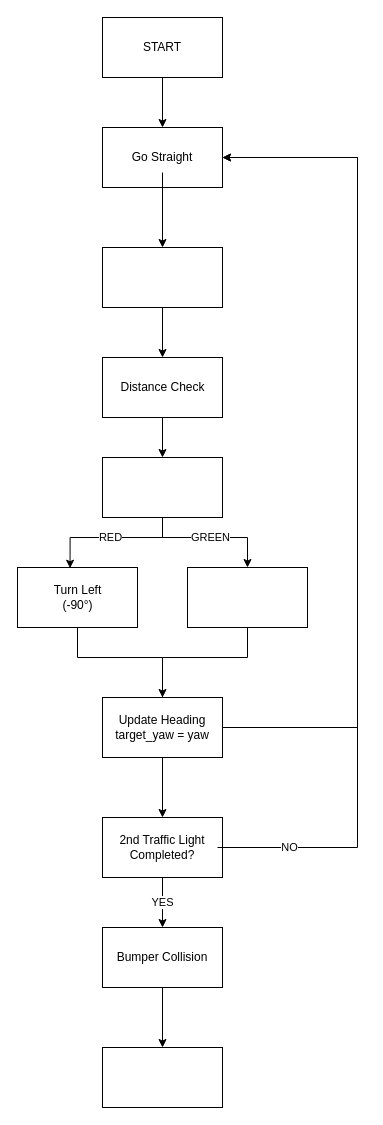
Image size: 383x1125. Some labels were removed from this diagram. The shapes that lost their labels are listed below. From the top down, each one's centre as x and y in pixels, then its label:
At (x=162, y=277): "Traffic Light ?".
At (x=162, y=487): "Color Detection".
At (x=247, y=597): "Turn Right (90°)".
At (x=162, y=1077): "END".
